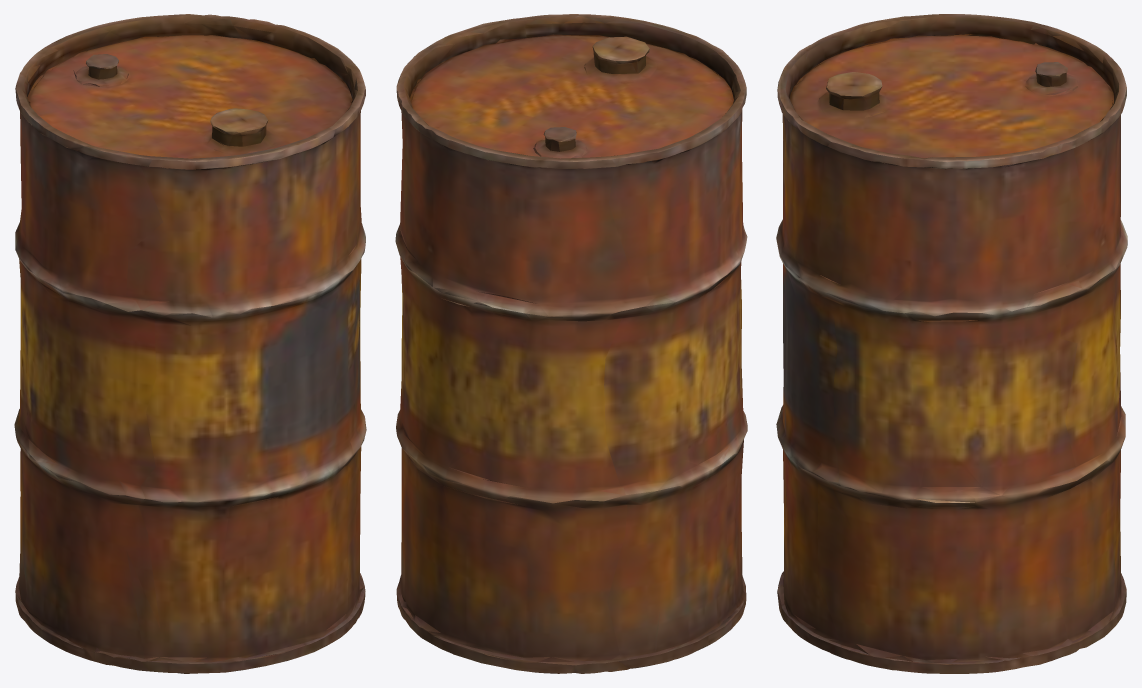
Rendered from street_rusty_barrel_2.glb.
3 renders of one model, left to right at view 1: azimuth 30°, elevation 25°; view 2: azimuth 150°, elevation 25°; view 3: azimuth 270°, elevation 25°, orthographic.
Visible parts, largest first — view 1: turn; view 2: turn; view 3: turn.
Part boxes in pixels (x1,y1,x2,y2): turn: [14, 14, 366, 673]; turn: [395, 14, 747, 673]; turn: [776, 14, 1127, 673].
Size of the model in its own units: 0.554 by 0.9 by 0.5546.
1 material, 1 textured.
